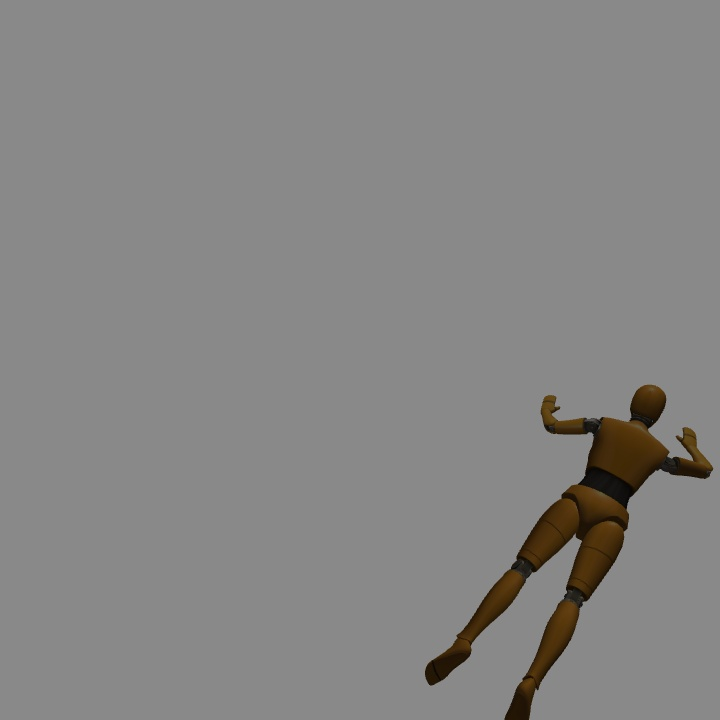victim: (436, 384, 708, 716)
